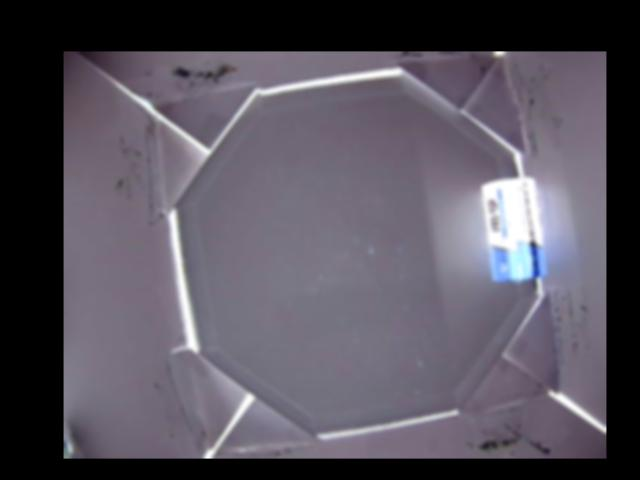Battery: (481, 176, 547, 281)
